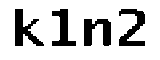1: (47, 6, 76, 48)
2: (115, 4, 148, 50)
k: (11, 7, 44, 51)
n: (80, 18, 114, 50)
